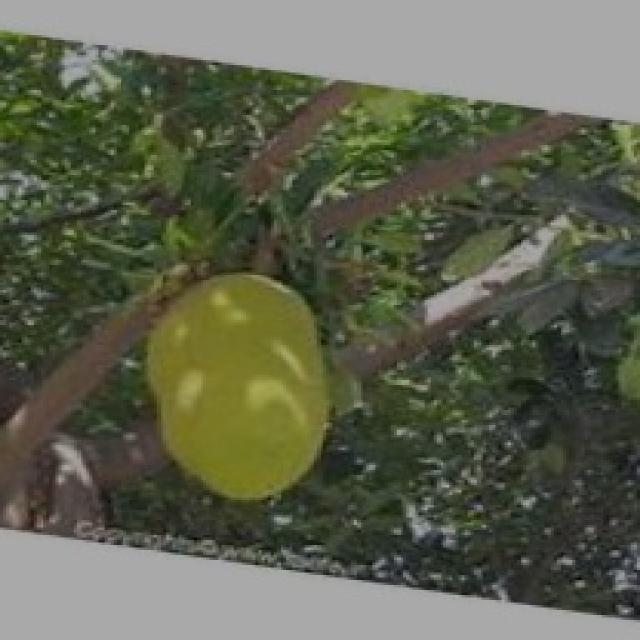Fruit: (108, 240, 366, 532)
